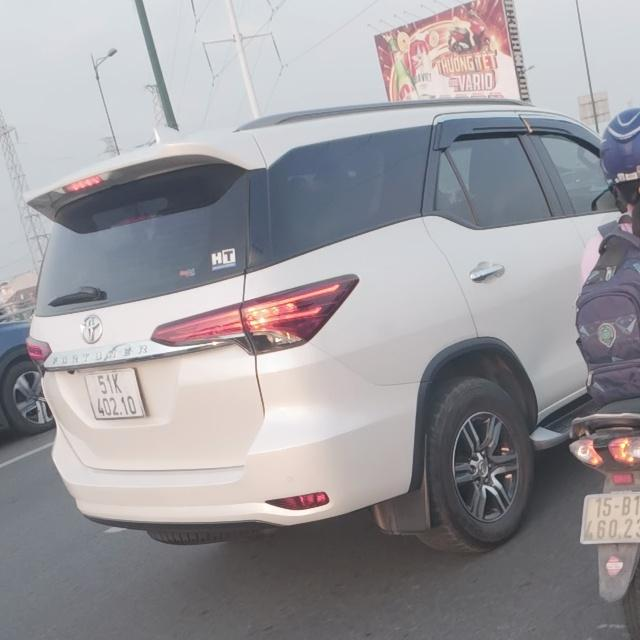license-plate: (84, 370, 146, 421)
